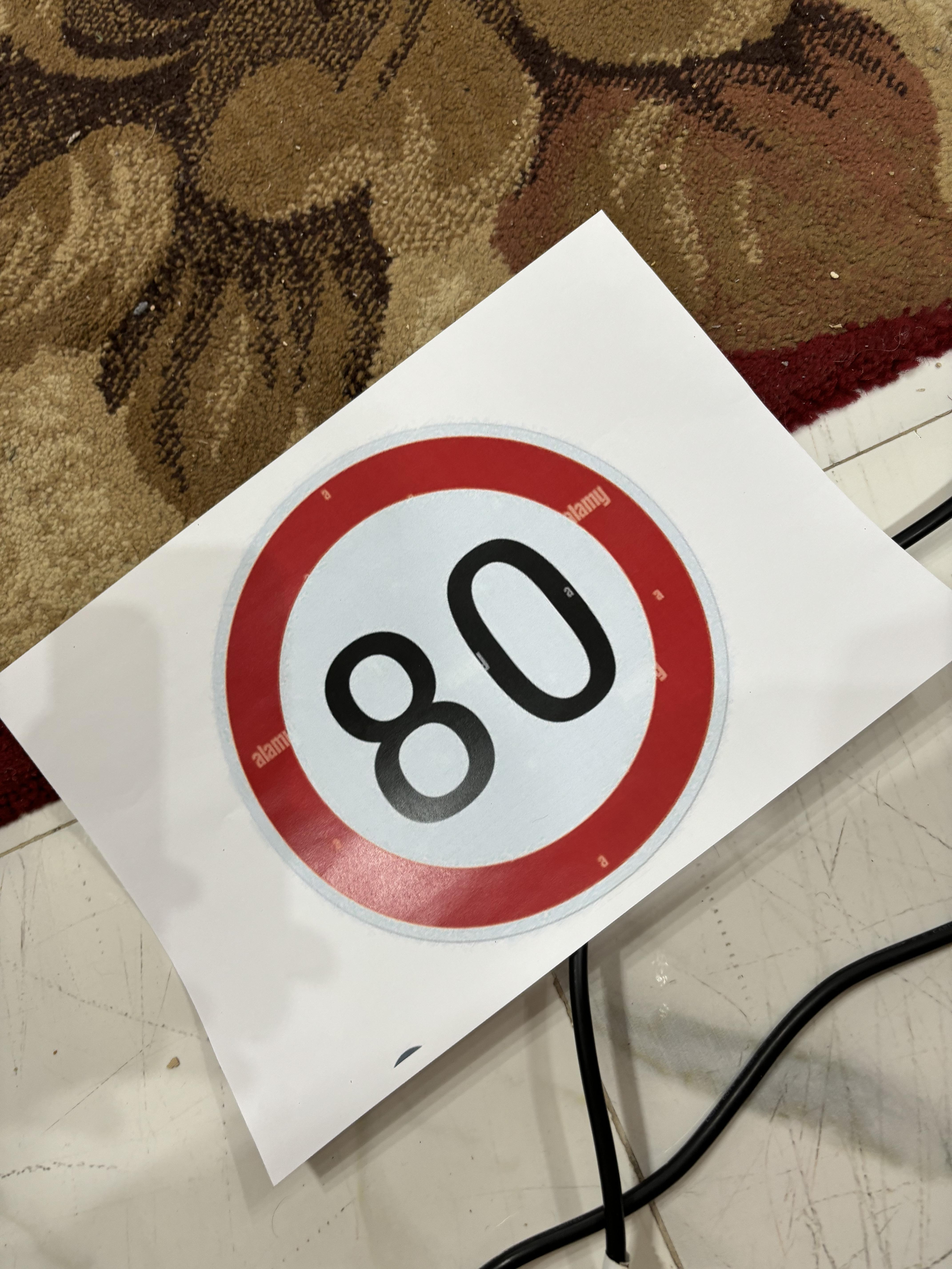80-Speed: (223, 416, 733, 945)
